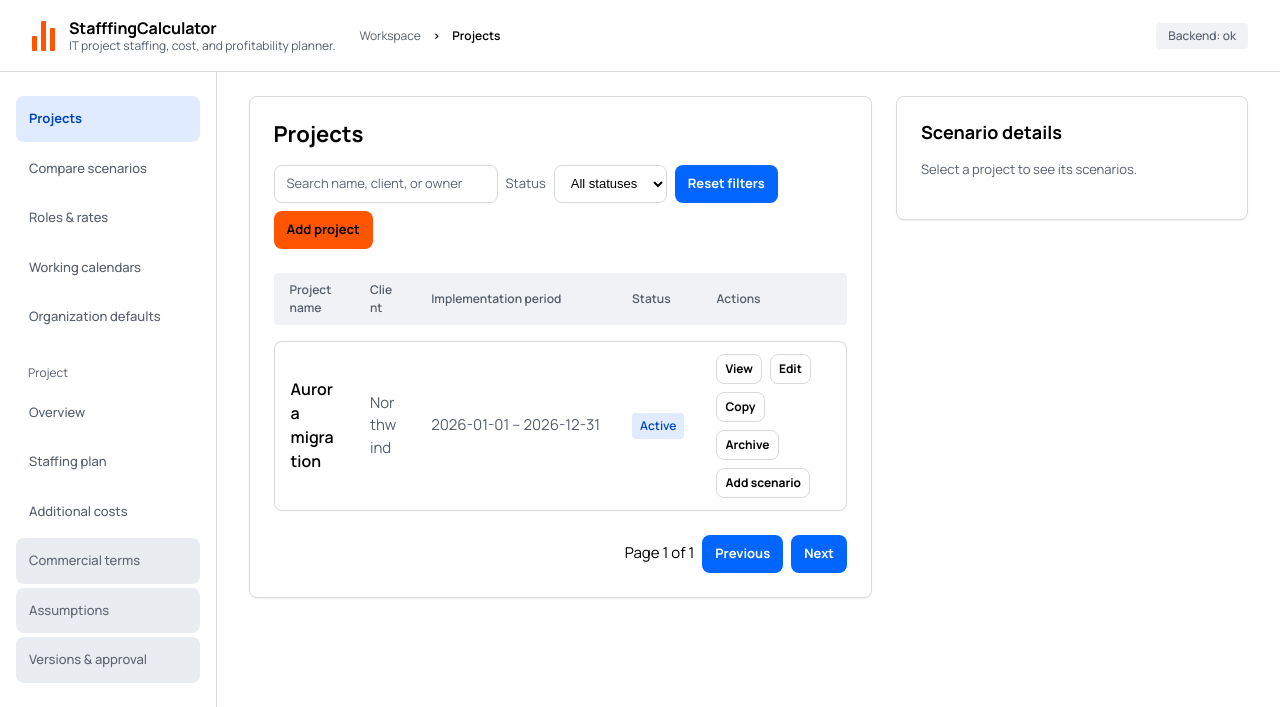
Scenario: K-01 — Story Points and Outcome-based scenarios are readable in both sections; values outside the contract are not › renders a story points revenue instead of a section read failure, in the rule section and in the results section
The image size is (1280, 707).
Step 1. Click the button "Aurora migration" → (314, 425), box [290, 377, 338, 473]
(page scrolled)
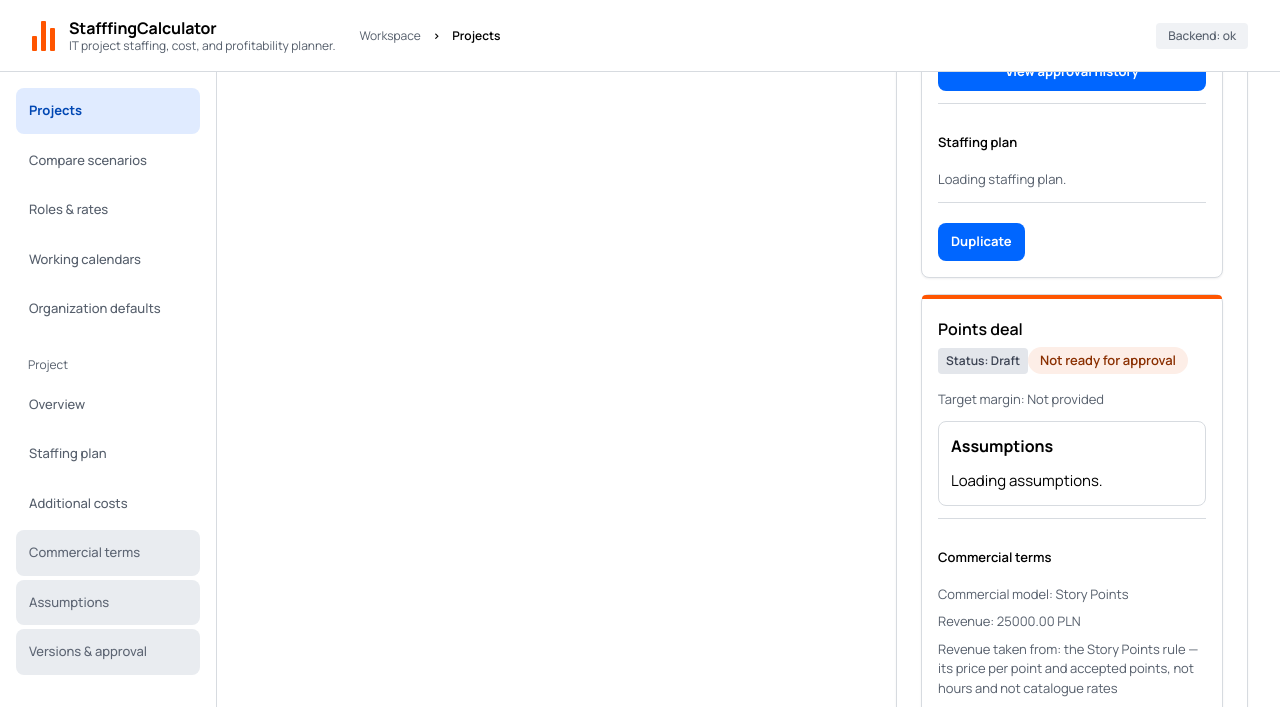
Now the text "Commercial model: Story Points" is shown, box [938, 585, 1128, 603]
Now the text "Revenue: 25000.00 PLN" is shown, box [938, 612, 1081, 630]
Now the text "Status: Draft" is shown, box [938, 348, 1028, 374]
